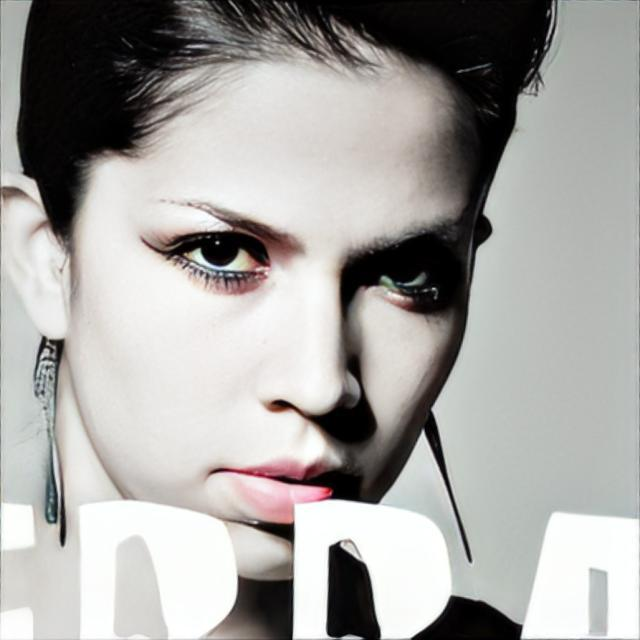anger: (74, 69, 478, 563)
